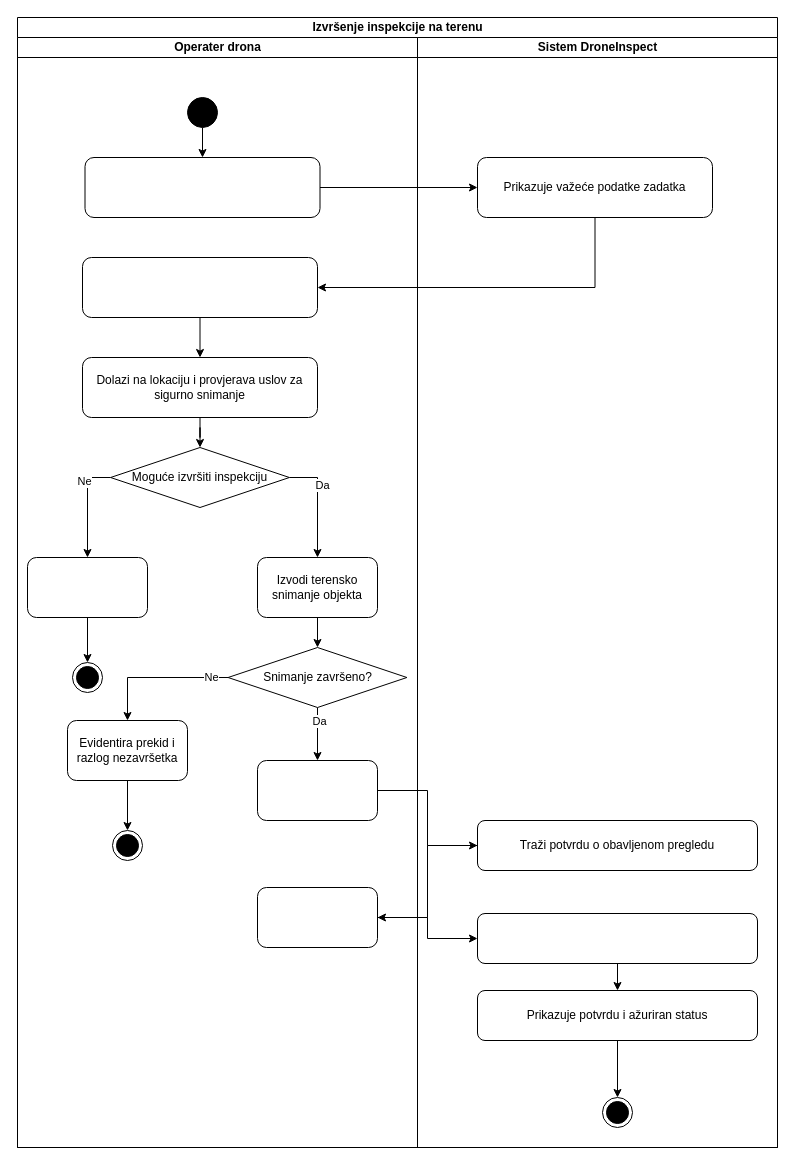
The diagram is 795 pixels wide and 1165 high, and some of its shapes have lost their labels. The centre of each missing label's shape, as x and y in pixels:
Evidentira razlog neizvršenja zadatka: [87,587]
Mijenja status u "Pregled obavljen" i evidentira korisnika i vrijeme: [617,938]
Otvara dodijeljenju inspekciju: [202,187]
Pokreće evidentiranje realizacije pregleda: [317,790]
Potvrđuje da je pregled obavljen: [317,917]
Provjerava zadatak i priprema dron i opremu: [200,287]
